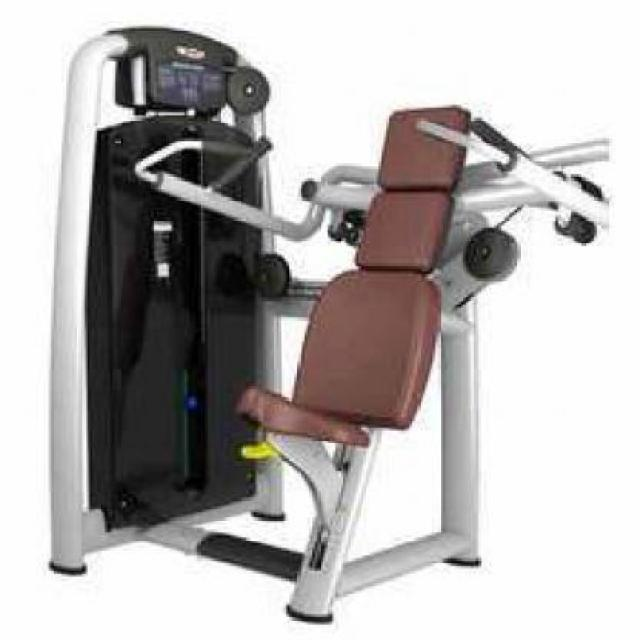shoulder press machine: (46, 26, 611, 620)
